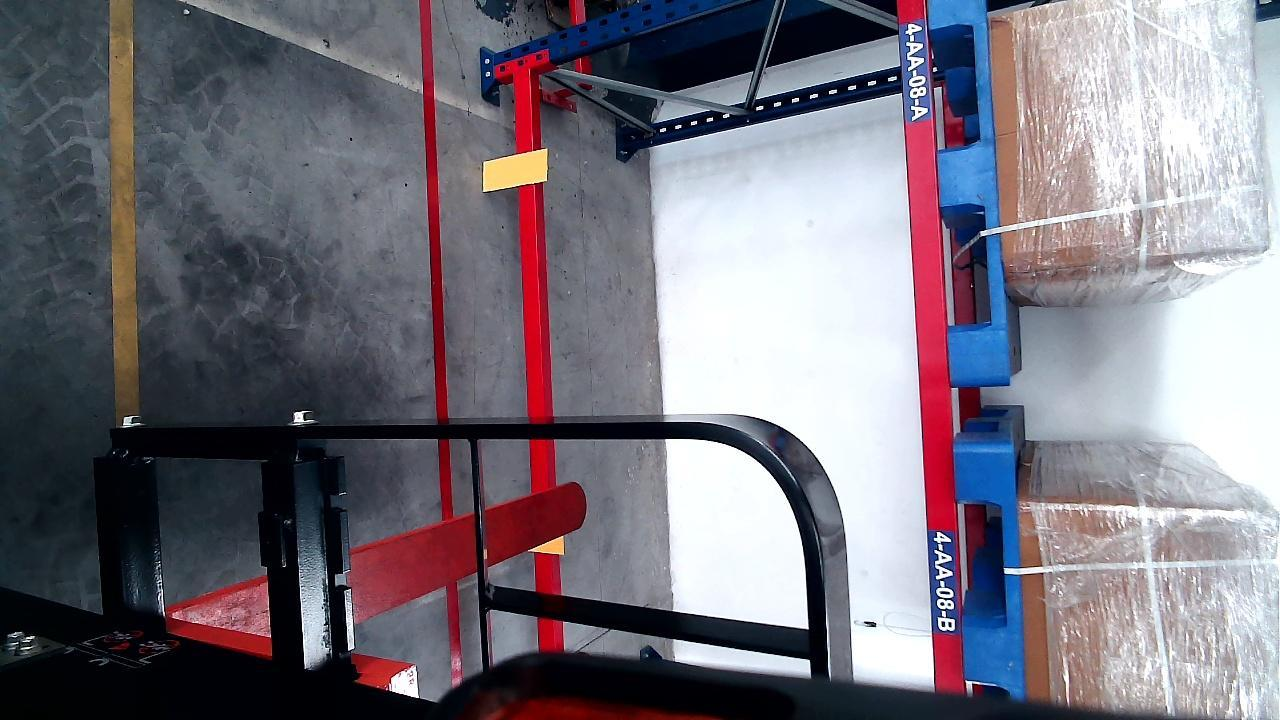red_line: (420, 1, 464, 685)
yellow_line: (110, 0, 139, 417)
